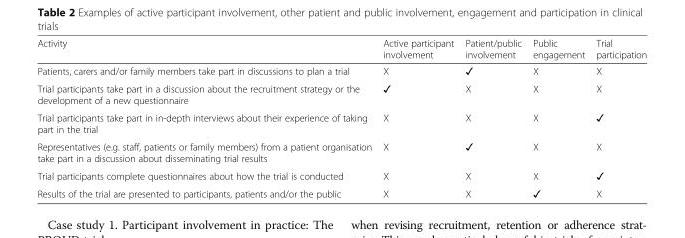table: (36, 37, 646, 198)
table column: (36, 37, 376, 198), (376, 37, 458, 198), (458, 37, 526, 198), (526, 37, 589, 198), (589, 37, 646, 198)
table column header: (36, 37, 646, 62)
table row: (36, 79, 646, 108), (36, 108, 646, 137), (36, 137, 646, 166), (36, 37, 646, 62), (36, 166, 646, 184), (36, 62, 646, 79), (36, 184, 646, 198)
